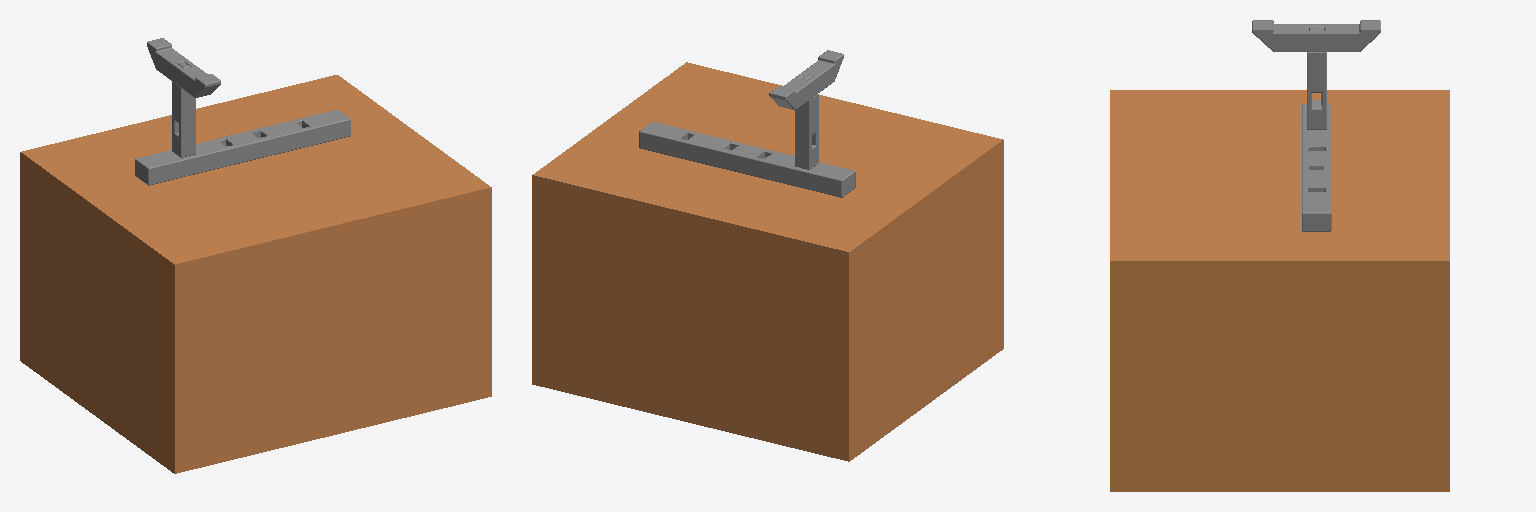
The robot description file, URDF, robot "table_beam_2x_3_scene_0040":
<?xml version="1.0"?>
<robot name="table_beam_2x_3_scene_0040">
  <link name="box">
    <visual>
      <material name="wood"><color rgba="0.82 0.56 0.35 1.0"/></material>
      <origin xyz="0 0 0"/>
      <geometry><box size="0.475 0.4 0.3"/></geometry>
    </visual>
    <collision>
      <origin xyz="0 0 0"/>
      <geometry><box size="0.475 0.4 0.3"/></geometry>
    </collision>
    <inertial>
      <mass value="500"/>
      <friction value="1.0"/>
      <inertia ixx="1000.0" ixy="0.0" ixz="0.0" iyy="1000.0" iyz="0.0" izz="1000.0"/>
    </inertial>
  </link>
  <link name="part_6_hull_0">
    <visual>
      <origin xyz="0 0 0" rpy="0 0 0"/>
      <geometry><mesh filename="../../6/coacd/decomp_0.obj" scale="1 1 1"/></geometry>
      <material name="placed_0"><color rgba="0.6 0.6 0.6 1.0"/></material>
    </visual>
    <collision>
      <origin xyz="0 0 0" rpy="0 0 0"/>
      <geometry><mesh filename="../../6/coacd/decomp_0.obj" scale="1 1 1"/></geometry>
    </collision>
  </link>
  <joint name="part_6_hull_0_joint" type="fixed">
    <parent link="box"/>
    <child link="part_6_hull_0"/>
    <origin xyz="0.005860 0.043293 0.162666" rpy="0.000000 0.000000 0.000000"/>
  </joint>
  <link name="part_6_hull_1">
    <visual>
      <origin xyz="0 0 0" rpy="0 0 0"/>
      <geometry><mesh filename="../../6/coacd/decomp_1.obj" scale="1 1 1"/></geometry>
      <material name="placed_1"><color rgba="0.6 0.6 0.6 1.0"/></material>
    </visual>
    <collision>
      <origin xyz="0 0 0" rpy="0 0 0"/>
      <geometry><mesh filename="../../6/coacd/decomp_1.obj" scale="1 1 1"/></geometry>
    </collision>
  </link>
  <joint name="part_6_hull_1_joint" type="fixed">
    <parent link="box"/>
    <child link="part_6_hull_1"/>
    <origin xyz="0.005860 0.043293 0.162666" rpy="0.000000 0.000000 0.000000"/>
  </joint>
  <link name="part_6_hull_2">
    <visual>
      <origin xyz="0 0 0" rpy="0 0 0"/>
      <geometry><mesh filename="../../6/coacd/decomp_10.obj" scale="1 1 1"/></geometry>
      <material name="placed_2"><color rgba="0.6 0.6 0.6 1.0"/></material>
    </visual>
    <collision>
      <origin xyz="0 0 0" rpy="0 0 0"/>
      <geometry><mesh filename="../../6/coacd/decomp_10.obj" scale="1 1 1"/></geometry>
    </collision>
  </link>
  <joint name="part_6_hull_2_joint" type="fixed">
    <parent link="box"/>
    <child link="part_6_hull_2"/>
    <origin xyz="0.005860 0.043293 0.162666" rpy="0.000000 0.000000 0.000000"/>
  </joint>
  <link name="part_6_hull_3">
    <visual>
      <origin xyz="0 0 0" rpy="0 0 0"/>
      <geometry><mesh filename="../../6/coacd/decomp_11.obj" scale="1 1 1"/></geometry>
      <material name="placed_3"><color rgba="0.6 0.6 0.6 1.0"/></material>
    </visual>
    <collision>
      <origin xyz="0 0 0" rpy="0 0 0"/>
      <geometry><mesh filename="../../6/coacd/decomp_11.obj" scale="1 1 1"/></geometry>
    </collision>
  </link>
  <joint name="part_6_hull_3_joint" type="fixed">
    <parent link="box"/>
    <child link="part_6_hull_3"/>
    <origin xyz="0.005860 0.043293 0.162666" rpy="0.000000 0.000000 0.000000"/>
  </joint>
  <link name="part_6_hull_4">
    <visual>
      <origin xyz="0 0 0" rpy="0 0 0"/>
      <geometry><mesh filename="../../6/coacd/decomp_12.obj" scale="1 1 1"/></geometry>
      <material name="placed_4"><color rgba="0.6 0.6 0.6 1.0"/></material>
    </visual>
    <collision>
      <origin xyz="0 0 0" rpy="0 0 0"/>
      <geometry><mesh filename="../../6/coacd/decomp_12.obj" scale="1 1 1"/></geometry>
    </collision>
  </link>
  <joint name="part_6_hull_4_joint" type="fixed">
    <parent link="box"/>
    <child link="part_6_hull_4"/>
    <origin xyz="0.005860 0.043293 0.162666" rpy="0.000000 0.000000 0.000000"/>
  </joint>
  <link name="part_6_hull_5">
    <visual>
      <origin xyz="0 0 0" rpy="0 0 0"/>
      <geometry><mesh filename="../../6/coacd/decomp_13.obj" scale="1 1 1"/></geometry>
      <material name="placed_5"><color rgba="0.6 0.6 0.6 1.0"/></material>
    </visual>
    <collision>
      <origin xyz="0 0 0" rpy="0 0 0"/>
      <geometry><mesh filename="../../6/coacd/decomp_13.obj" scale="1 1 1"/></geometry>
    </collision>
  </link>
  <joint name="part_6_hull_5_joint" type="fixed">
    <parent link="box"/>
    <child link="part_6_hull_5"/>
    <origin xyz="0.005860 0.043293 0.162666" rpy="0.000000 0.000000 0.000000"/>
  </joint>
  <link name="part_6_hull_6">
    <visual>
      <origin xyz="0 0 0" rpy="0 0 0"/>
      <geometry><mesh filename="../../6/coacd/decomp_2.obj" scale="1 1 1"/></geometry>
      <material name="placed_6"><color rgba="0.6 0.6 0.6 1.0"/></material>
    </visual>
    <collision>
      <origin xyz="0 0 0" rpy="0 0 0"/>
      <geometry><mesh filename="../../6/coacd/decomp_2.obj" scale="1 1 1"/></geometry>
    </collision>
  </link>
  <joint name="part_6_hull_6_joint" type="fixed">
    <parent link="box"/>
    <child link="part_6_hull_6"/>
    <origin xyz="0.005860 0.043293 0.162666" rpy="0.000000 0.000000 0.000000"/>
  </joint>
  <link name="part_6_hull_7">
    <visual>
      <origin xyz="0 0 0" rpy="0 0 0"/>
      <geometry><mesh filename="../../6/coacd/decomp_3.obj" scale="1 1 1"/></geometry>
      <material name="placed_7"><color rgba="0.6 0.6 0.6 1.0"/></material>
    </visual>
    <collision>
      <origin xyz="0 0 0" rpy="0 0 0"/>
      <geometry><mesh filename="../../6/coacd/decomp_3.obj" scale="1 1 1"/></geometry>
    </collision>
  </link>
  <joint name="part_6_hull_7_joint" type="fixed">
    <parent link="box"/>
    <child link="part_6_hull_7"/>
    <origin xyz="0.005860 0.043293 0.162666" rpy="0.000000 0.000000 0.000000"/>
  </joint>
  <link name="part_6_hull_8">
    <visual>
      <origin xyz="0 0 0" rpy="0 0 0"/>
      <geometry><mesh filename="../../6/coacd/decomp_4.obj" scale="1 1 1"/></geometry>
      <material name="placed_8"><color rgba="0.6 0.6 0.6 1.0"/></material>
    </visual>
    <collision>
      <origin xyz="0 0 0" rpy="0 0 0"/>
      <geometry><mesh filename="../../6/coacd/decomp_4.obj" scale="1 1 1"/></geometry>
    </collision>
  </link>
  <joint name="part_6_hull_8_joint" type="fixed">
    <parent link="box"/>
    <child link="part_6_hull_8"/>
    <origin xyz="0.005860 0.043293 0.162666" rpy="0.000000 0.000000 0.000000"/>
  </joint>
  <link name="part_6_hull_9">
    <visual>
      <origin xyz="0 0 0" rpy="0 0 0"/>
      <geometry><mesh filename="../../6/coacd/decomp_5.obj" scale="1 1 1"/></geometry>
      <material name="placed_9"><color rgba="0.6 0.6 0.6 1.0"/></material>
    </visual>
    <collision>
      <origin xyz="0 0 0" rpy="0 0 0"/>
      <geometry><mesh filename="../../6/coacd/decomp_5.obj" scale="1 1 1"/></geometry>
    </collision>
  </link>
  <joint name="part_6_hull_9_joint" type="fixed">
    <parent link="box"/>
    <child link="part_6_hull_9"/>
    <origin xyz="0.005860 0.043293 0.162666" rpy="0.000000 0.000000 0.000000"/>
  </joint>
  <link name="part_6_hull_10">
    <visual>
      <origin xyz="0 0 0" rpy="0 0 0"/>
      <geometry><mesh filename="../../6/coacd/decomp_6.obj" scale="1 1 1"/></geometry>
      <material name="placed_10"><color rgba="0.6 0.6 0.6 1.0"/></material>
    </visual>
    <collision>
      <origin xyz="0 0 0" rpy="0 0 0"/>
      <geometry><mesh filename="../../6/coacd/decomp_6.obj" scale="1 1 1"/></geometry>
    </collision>
  </link>
  <joint name="part_6_hull_10_joint" type="fixed">
    <parent link="box"/>
    <child link="part_6_hull_10"/>
    <origin xyz="0.005860 0.043293 0.162666" rpy="0.000000 0.000000 0.000000"/>
  </joint>
  <link name="part_6_hull_11">
    <visual>
      <origin xyz="0 0 0" rpy="0 0 0"/>
      <geometry><mesh filename="../../6/coacd/decomp_7.obj" scale="1 1 1"/></geometry>
      <material name="placed_11"><color rgba="0.6 0.6 0.6 1.0"/></material>
    </visual>
    <collision>
      <origin xyz="0 0 0" rpy="0 0 0"/>
      <geometry><mesh filename="../../6/coacd/decomp_7.obj" scale="1 1 1"/></geometry>
    </collision>
  </link>
  <joint name="part_6_hull_11_joint" type="fixed">
    <parent link="box"/>
    <child link="part_6_hull_11"/>
    <origin xyz="0.005860 0.043293 0.162666" rpy="0.000000 0.000000 0.000000"/>
  </joint>
  <link name="part_6_hull_12">
    <visual>
      <origin xyz="0 0 0" rpy="0 0 0"/>
      <geometry><mesh filename="../../6/coacd/decomp_8.obj" scale="1 1 1"/></geometry>
      <material name="placed_12"><color rgba="0.6 0.6 0.6 1.0"/></material>
    </visual>
    <collision>
      <origin xyz="0 0 0" rpy="0 0 0"/>
      <geometry><mesh filename="../../6/coacd/decomp_8.obj" scale="1 1 1"/></geometry>
    </collision>
  </link>
  <joint name="part_6_hull_12_joint" type="fixed">
    <parent link="box"/>
    <child link="part_6_hull_12"/>
    <origin xyz="0.005860 0.043293 0.162666" rpy="0.000000 0.000000 0.000000"/>
  </joint>
  <link name="part_6_hull_13">
    <visual>
      <origin xyz="0 0 0" rpy="0 0 0"/>
      <geometry><mesh filename="../../6/coacd/decomp_9.obj" scale="1 1 1"/></geometry>
      <material name="placed_13"><color rgba="0.6 0.6 0.6 1.0"/></material>
    </visual>
    <collision>
      <origin xyz="0 0 0" rpy="0 0 0"/>
      <geometry><mesh filename="../../6/coacd/decomp_9.obj" scale="1 1 1"/></geometry>
    </collision>
  </link>
  <joint name="part_6_hull_13_joint" type="fixed">
    <parent link="box"/>
    <child link="part_6_hull_13"/>
    <origin xyz="0.005860 0.043293 0.162666" rpy="0.000000 0.000000 0.000000"/>
  </joint>
  <link name="part_2_canonical">
    <visual>
      <origin xyz="0 0 0" rpy="0 0 0"/>
      <geometry><mesh filename="../../2/2_canonical.obj" scale="1 1 1"/></geometry>
      <material name="placed_14"><color rgba="0.6 0.6 0.6 1.0"/></material>
    </visual>
    <collision>
      <origin xyz="0 0 0" rpy="0 0 0"/>
      <geometry><mesh filename="../../2/2_canonical.obj" scale="1 1 1"/></geometry>
    </collision>
  </link>
  <joint name="part_2_canonical_joint" type="fixed">
    <parent link="box"/>
    <child link="part_2_canonical"/>
    <origin xyz="-0.083066 0.043293 0.225384" rpy="0.000000 -1.570796 0.000000"/>
  </joint>
  <link name="part_0_canonical">
    <visual>
      <origin xyz="0 0 0" rpy="0 0 0"/>
      <geometry><mesh filename="../../0/0_canonical.obj" scale="1 1 1"/></geometry>
      <material name="placed_15"><color rgba="0.6 0.6 0.6 1.0"/></material>
    </visual>
    <collision>
      <origin xyz="0 0 0" rpy="0 0 0"/>
      <geometry><mesh filename="../../0/0_canonical.obj" scale="1 1 1"/></geometry>
    </collision>
  </link>
  <joint name="part_0_canonical_joint" type="fixed">
    <parent link="box"/>
    <child link="part_0_canonical"/>
    <origin xyz="-0.083040 0.043293 0.292243" rpy="1.570796 0.000000 -1.570796"/>
  </joint>
</robot>

--- Render facts (derived) ---
The picture shows the robot from 3 angles, left to right: view 1: azimuth 30°, elevation 25°; view 2: azimuth 150°, elevation 25°; view 3: azimuth 270°, elevation 25°; orthographic projection.
Model table_beam_2x_3_scene_0040 with 17 links and 16 joints (16 fixed), rooted at box, posed every joint at zero.
Visible links, largest first — view 1: box, part_0_canonical, part_2_canonical, part_6_hull_1, part_6_hull_0, part_6_hull_9, part_6_hull_5, part_6_hull_3; view 2: box, part_0_canonical, part_2_canonical, part_6_hull_1, part_6_hull_0, part_6_hull_2, part_6_hull_5, part_6_hull_12; view 3: box, part_0_canonical, part_2_canonical, part_6_hull_0.
Link boxes in pixels (box(x1,y1,x2,y2)): box: box(20, 75, 491, 473); part_0_canonical: box(147, 38, 220, 97); part_2_canonical: box(172, 62, 195, 157); part_6_hull_1: box(135, 150, 186, 185); part_6_hull_0: box(300, 109, 350, 144); part_6_hull_9: box(185, 145, 236, 175); part_6_hull_5: box(267, 120, 305, 153); part_6_hull_3: box(237, 134, 278, 162); box: box(532, 62, 1003, 461); part_0_canonical: box(769, 50, 843, 109); part_2_canonical: box(795, 74, 818, 169); part_6_hull_1: box(803, 162, 855, 197); part_6_hull_0: box(639, 122, 689, 157); part_6_hull_2: box(761, 154, 798, 186); part_6_hull_5: box(685, 133, 723, 165); part_6_hull_12: box(712, 146, 751, 174); box: box(1110, 90, 1449, 491); part_0_canonical: box(1252, 20, 1380, 51); part_2_canonical: box(1307, 27, 1326, 129); part_6_hull_0: box(1302, 192, 1331, 231).
Size in the robot's own frame: 0.475 by 0.4 by 0.4575 metres.
16 mesh visuals loaded from 16 distinct referenced files (16 OBJ).
